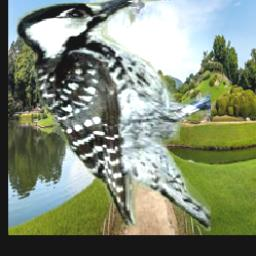Woodpecker: (13, 0, 211, 232)
